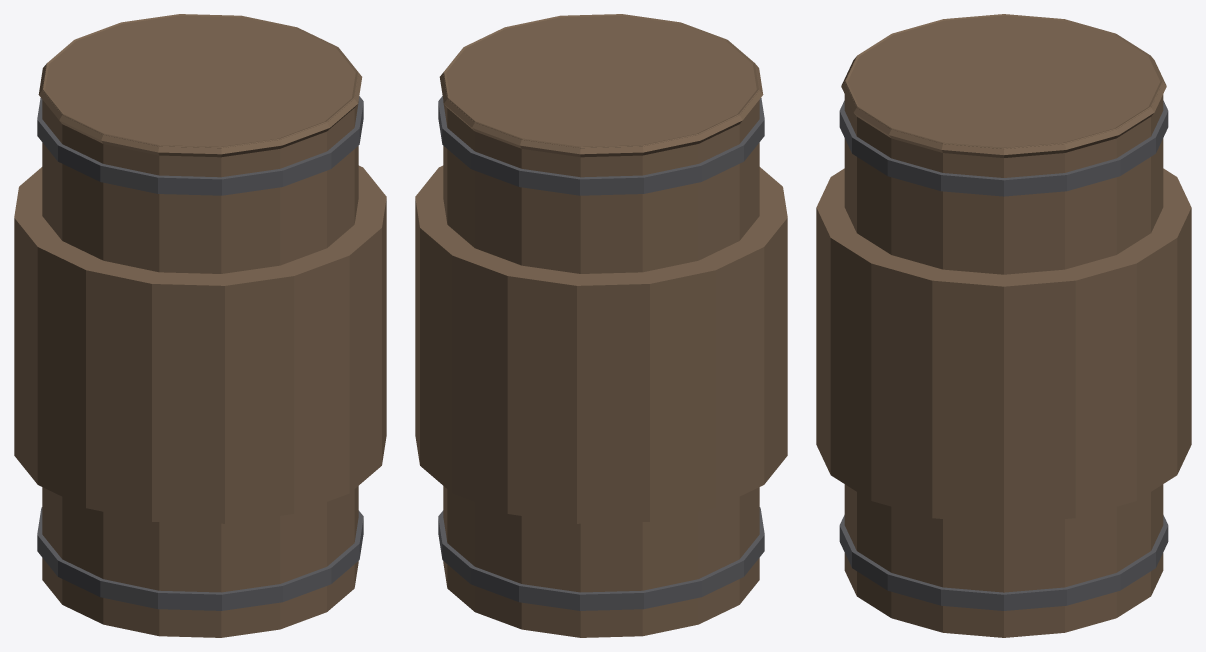
File: barrel.glb
3 views of the same model, side by side, from view 1: azimuth 30°, elevation 25°; view 2: azimuth 150°, elevation 25°; view 3: azimuth 270°, elevation 25° (orthographic).
Parts seen in each view (by area): view 1: Barrel; view 2: Barrel; view 3: Barrel.
Part boxes in pixels (x1,y1,x2,y2): Barrel: (14,14,386,637); Barrel: (415,14,787,637); Barrel: (816,14,1191,637).
Bounding box in the file's own units: 0.73 × 1.05 × 0.73.
